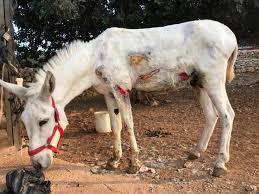cut: (88, 44, 211, 104)
